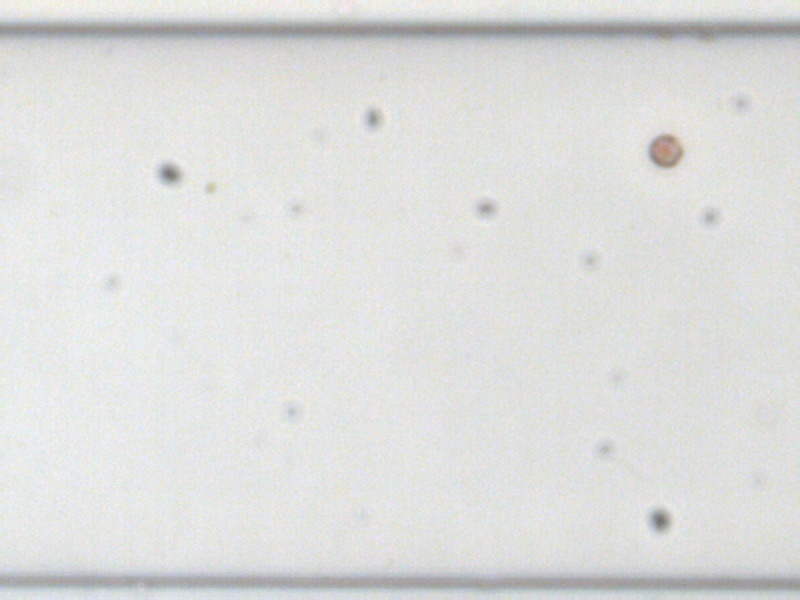Chlorella: (204, 180, 217, 193)
Porphyridium: (647, 133, 685, 168)
